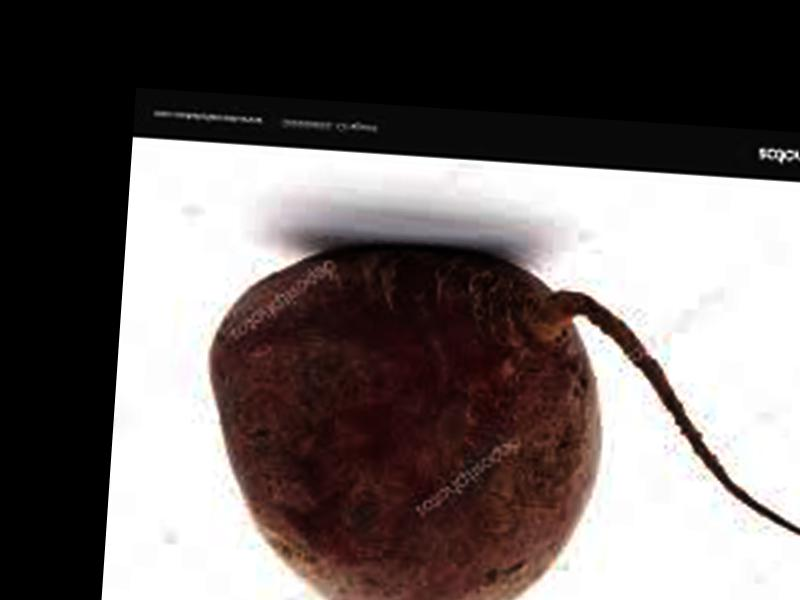Beet: (193, 233, 800, 600)
